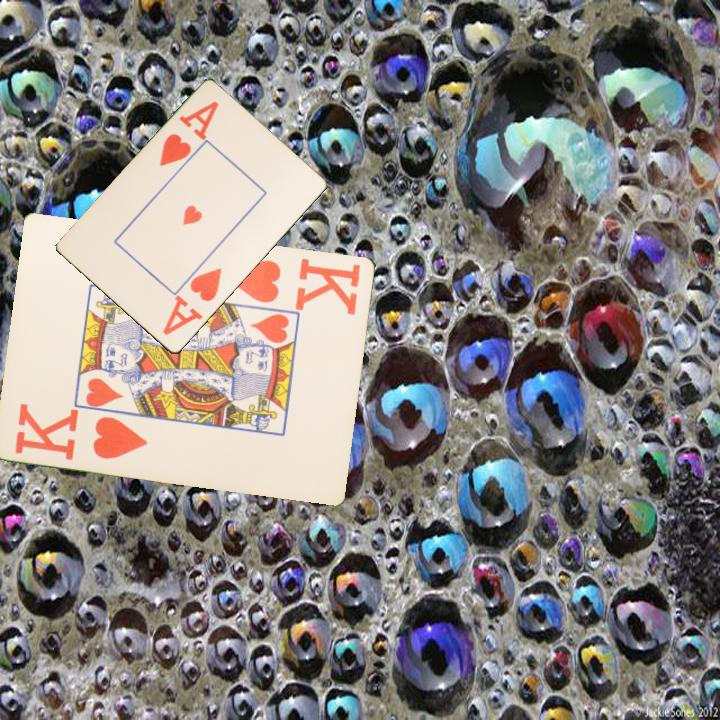Ah: (159, 264, 225, 339), (156, 98, 222, 170)
Kh: (222, 254, 364, 317), (12, 400, 151, 463)
